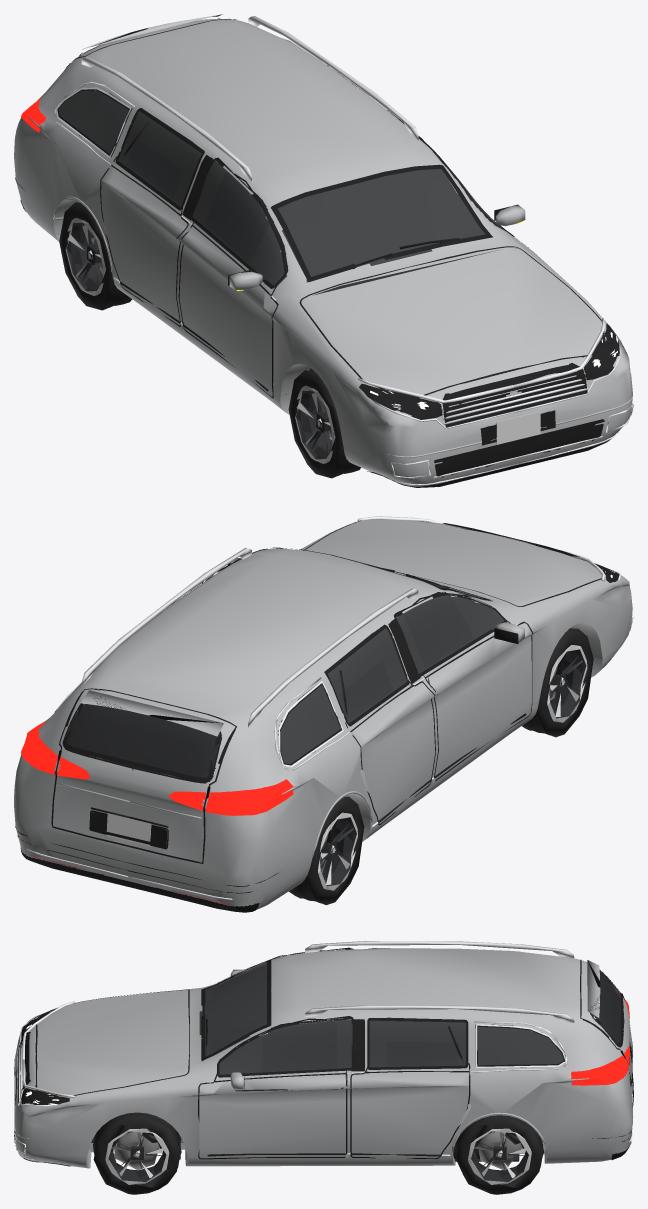
File: wagon-lod1.glb
The picture shows the model from 3 angles, top to bottom: view 1: azimuth 30°, elevation 25°; view 2: azimuth 150°, elevation 25°; view 3: azimuth 270°, elevation 25°; orthographic projection. The views are drawn at different scales.
Visible parts, largest first — view 1: Body, HoodSkin, Body_Lining, Body_Trim, Panel_FR, Panel_RR, Window_FR, Window_RR, Window_FR_Lining, Wheel_FR_Tyre, Wheel_RR_Tyre, Wheel_FR_Lip (+8 smaller); view 2: Body, TrunkSkin, HoodSkin, Panel_FR, Panel_RR, Body_Lining, Body_Trim, Window_FR, TrunkSkin_Trim, Window_RR, Window_FR_Lining, Wheel_FR_Tyre (+11 smaller); view 3: Body, HoodSkin, Panel_FL, Body_Lining, Panel_RL, Window_FL, Body_Trim, Window_RL, Window_FL_Lining, Wheel_FL_Tyre, Wheel_RL_Tyre, TrunkSkin (+12 smaller).
Part boxes in pixels (left/top/right/bottom): Body: left=14, top=19, right=632, bottom=486; HoodSkin: left=301, top=248, right=601, bottom=394; Body_Lining: left=59, top=56, right=517, bottom=383; Body_Trim: left=20, top=87, right=619, bottom=487; Panel_FR: left=179, top=223, right=276, bottom=396; Panel_RR: left=101, top=159, right=187, bottom=324; Window_FR: left=192, top=161, right=284, bottom=285; Window_RR: left=118, top=112, right=201, bottom=207; Window_FR_Lining: left=205, top=171, right=269, bottom=263; Wheel_FR_Tyre: left=288, top=369, right=360, bottom=478; Wheel_RR_Tyre: left=59, top=202, right=132, bottom=310; Wheel_FR_Lip: left=295, top=386, right=335, bottom=463; Body: left=14, top=521, right=632, bottom=909; TrunkSkin: left=53, top=689, right=235, bottom=861; HoodSkin: left=304, top=519, right=601, bottom=606; Panel_FR: left=424, top=623, right=531, bottom=779; Panel_RR: left=347, top=682, right=434, bottom=823; Body_Lining: left=69, top=583, right=530, bottom=774; Body_Trim: left=20, top=521, right=619, bottom=912; Window_FR: left=396, top=593, right=503, bottom=673; TrunkSkin_Trim: left=51, top=688, right=236, bottom=863; Window_RR: left=328, top=628, right=407, bottom=722; Window_FR_Lining: left=404, top=598, right=473, bottom=667; Wheel_FR_Tyre: left=522, top=628, right=593, bottom=737; Body: left=15, top=948, right=633, bottom=1168; HoodSkin: left=37, top=990, right=187, bottom=1095; Panel_FL: left=199, top=1070, right=346, bottom=1158; Body_Lining: left=200, top=965, right=563, bottom=1074; Panel_RL: left=352, top=1065, right=468, bottom=1158; Window_FL: left=219, top=1018, right=352, bottom=1074; Body_Trim: left=14, top=959, right=629, bottom=1166; Window_RL: left=369, top=1020, right=465, bottom=1067; Window_FL_Lining: left=262, top=1022, right=336, bottom=1071; Wheel_FL_Tyre: left=93, top=1112, right=181, bottom=1194; Wheel_RL_Tyre: left=455, top=1115, right=543, bottom=1194; TrunkSkin: left=581, top=960, right=632, bottom=1103.
Size of what is drawn, in the model's own units: 2.04 by 1.48 by 4.77.
